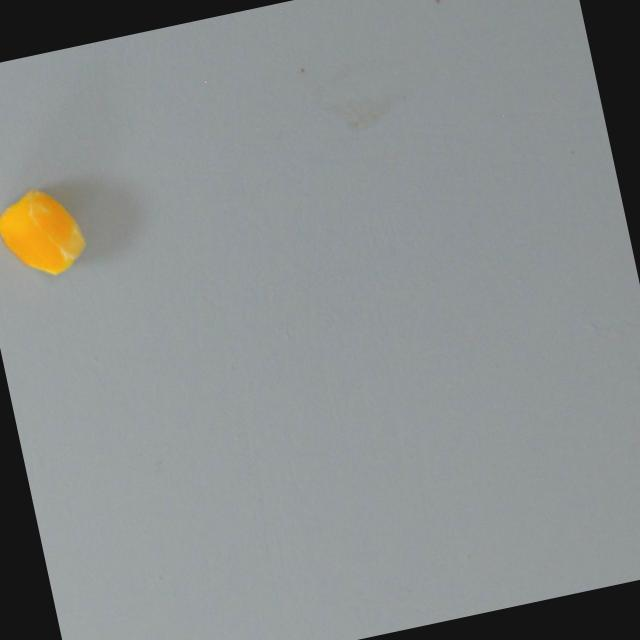pelicula: (0, 179, 92, 285)
